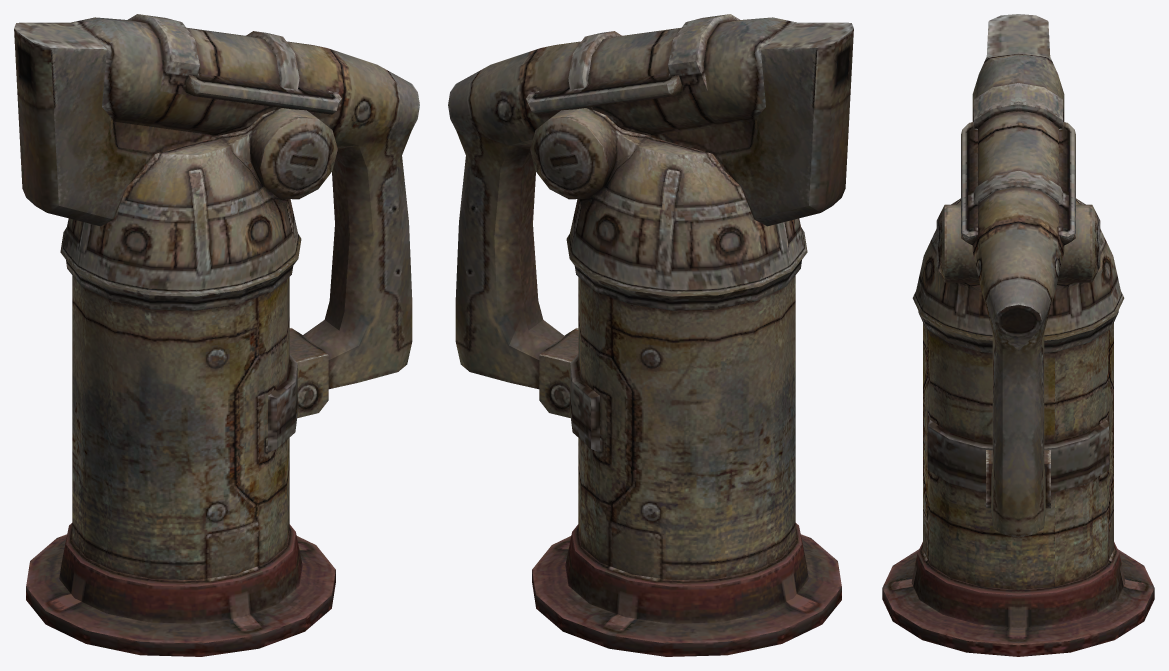
The model's file is blowtorch.dae.
The picture shows the model from 3 angles, left to right: view 1: azimuth 30°, elevation 25°; view 2: azimuth 150°, elevation 25°; view 3: azimuth 270°, elevation 25°; orthographic projection. The views are drawn at different scales.
Visible parts, largest first — view 1: Mesh; view 2: Mesh; view 3: Mesh.
Part boxes in pixels (x1,y1,x2,y2): Mesh: (14, 14, 419, 656); Mesh: (448, 14, 853, 656); Mesh: (882, 14, 1154, 656).
Bounding box in the file's own units: 0.2148 × 0.313 × 0.1491.
